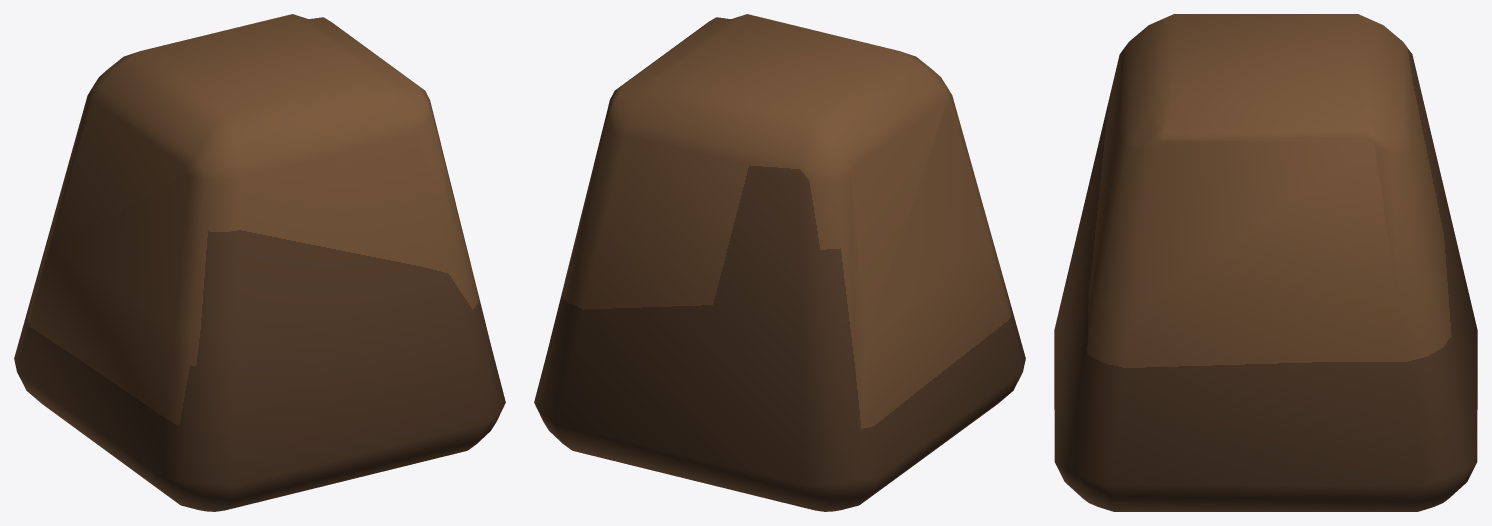
The model's file is darker dirt fbx.fbx.
3 renders of one model, left to right at view 1: azimuth 30°, elevation 25°; view 2: azimuth 150°, elevation 25°; view 3: azimuth 270°, elevation 25°, orthographic. The views are drawn at different scales.
Parts seen in each view (by area): view 1: Cube.014; view 2: Cube.014; view 3: Cube.014.
Boxes of the visible parts, bbox=[...] form: Cube.014: bbox=[14, 14, 505, 511]; Cube.014: bbox=[534, 14, 1025, 511]; Cube.014: bbox=[1054, 14, 1477, 511].
Size of the model in its own units: 94.22 by 96.01 by 94.32.
